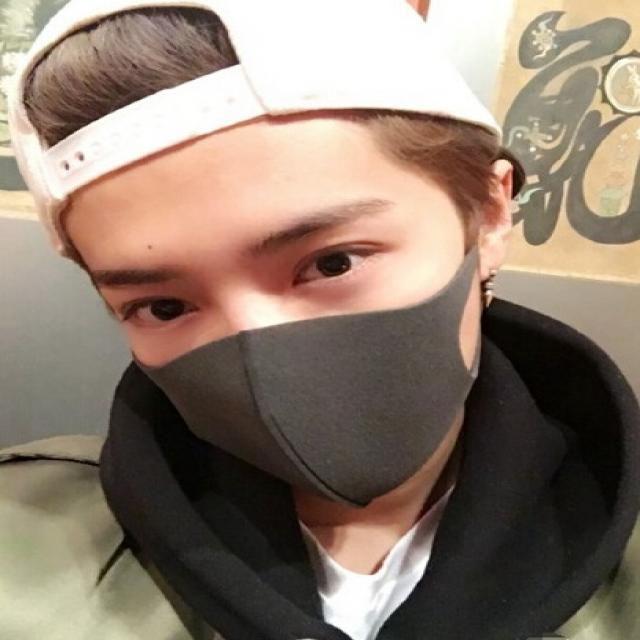mask: (104, 116, 468, 496)
